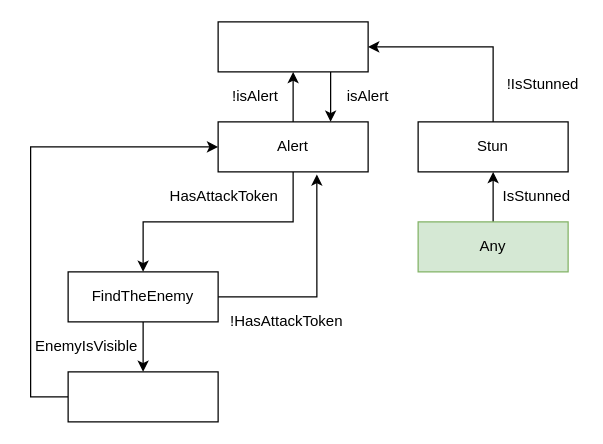
Image size: 603x444. Some labels were removed from this diagram. The centre of each missing label's shape, as x and y in pixels:
Attack: (142,396)
Patrol: (292,46)
